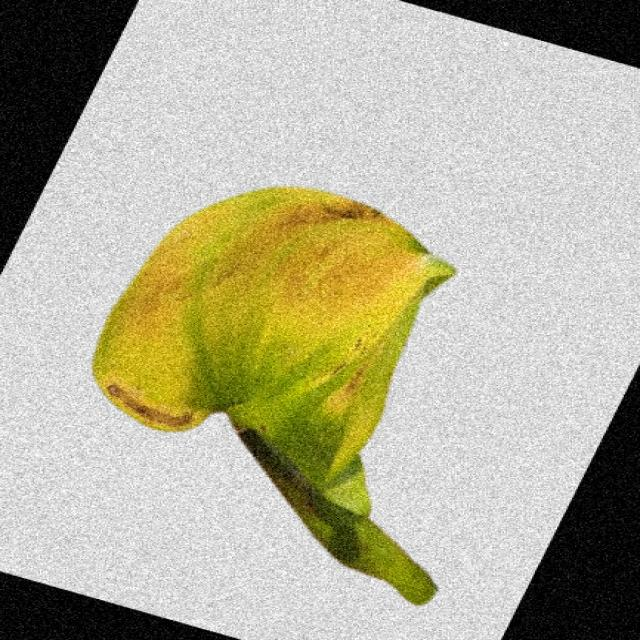daun berpenyakit kuning: (93, 188, 455, 604)
